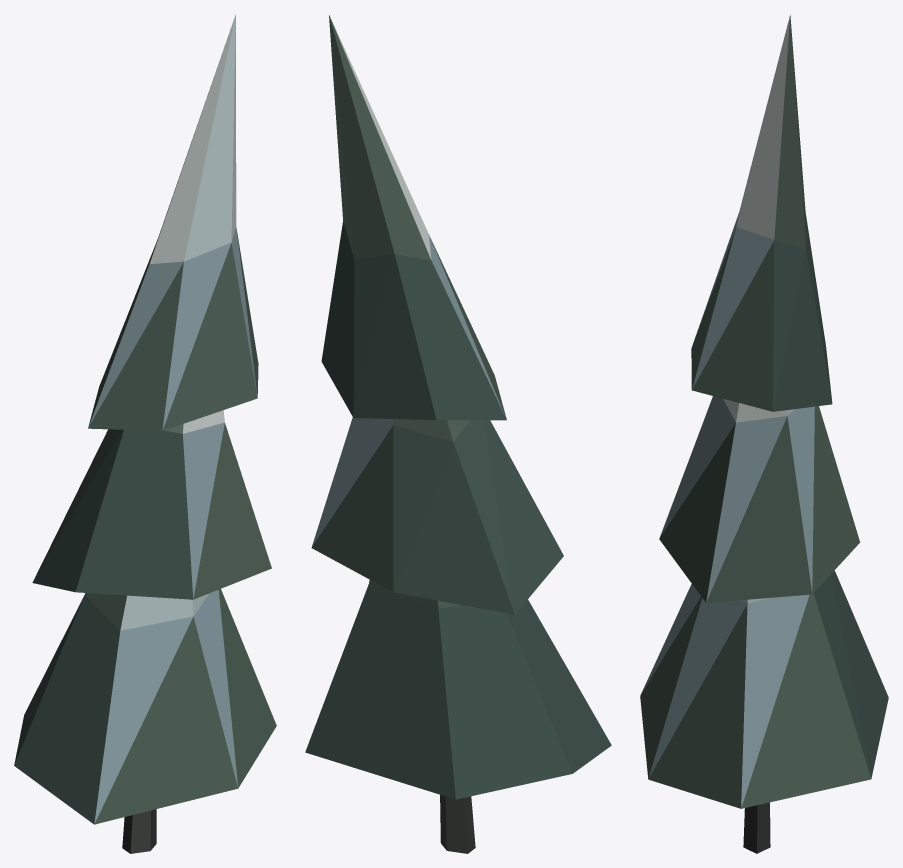
The model's file is Wind_Bent_Sapling_Mid.obj.
3 renders of one model, left to right at view 1: azimuth 30°, elevation 25°; view 2: azimuth 150°, elevation 25°; view 3: azimuth 270°, elevation 25°, orthographic. The views are drawn at different scales.
Visible parts, largest first — view 1: Wind_Bent_Sapling_Mid; view 2: Wind_Bent_Sapling_Mid; view 3: Wind_Bent_Sapling_Mid.
Boxes of the visible parts, x1=… form: Wind_Bent_Sapling_Mid: x1=14, y1=14, x2=276, y2=853; Wind_Bent_Sapling_Mid: x1=305, y1=15, x2=611, y2=853; Wind_Bent_Sapling_Mid: x1=640, y1=15, x2=888, y2=853.
Size of the model in its own units: 1.54 by 4.7 by 1.19.
1 material, 1 textured.
